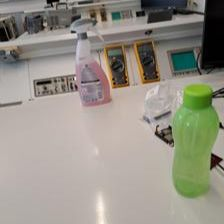bottle: (171, 83, 218, 198)
